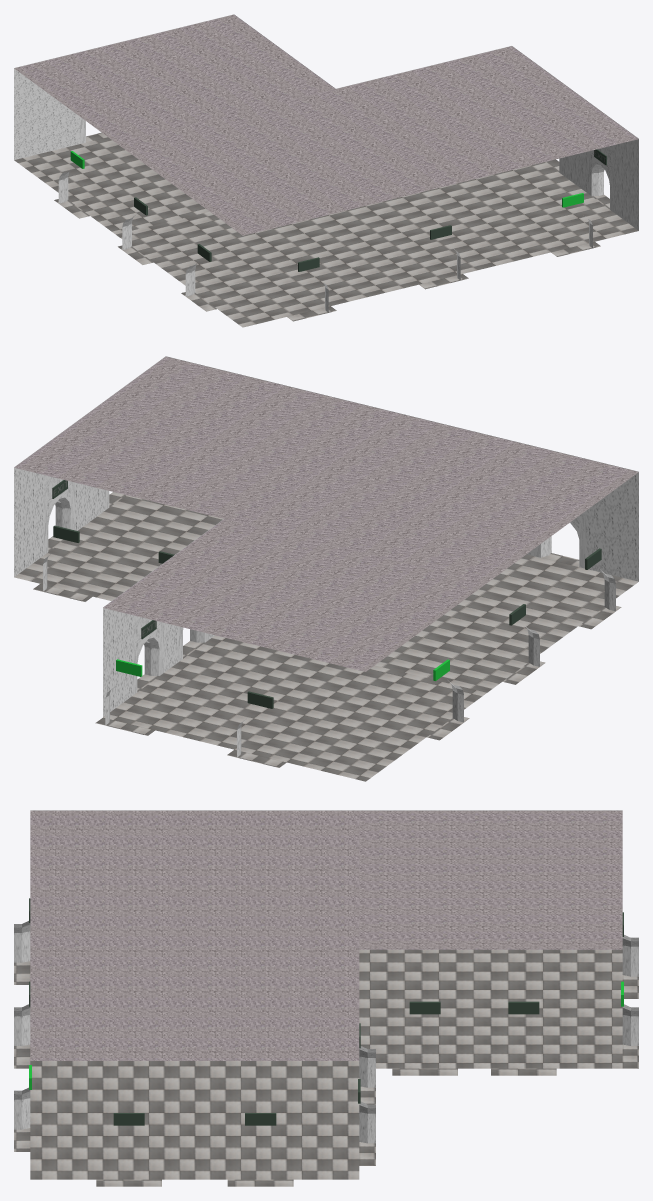
File: Room8.glb
3 renders of one model, top to bottom at view 1: azimuth 30°, elevation 25°; view 2: azimuth 150°, elevation 25°; view 3: azimuth 270°, elevation 25°, orthographic. The views are drawn at different scales.
Visible parts, largest first — view 1: Floor.002, Floor.001, Walls, FakeSigns; view 2: Floor.002, Floor.001, Walls, FakeSigns; view 3: Floor.002, Floor.001, Walls, FakeSigns.
Part boxes in pixels (x1,y1,x2,y2): Floor.002: (14, 14, 638, 235); Floor.001: (14, 132, 638, 327); Walls: (14, 14, 638, 312); FakeSigns: (134, 149, 606, 271); Floor.002: (14, 356, 638, 671); Floor.001: (14, 492, 638, 781); Walls: (14, 356, 638, 757); FakeSigns: (52, 480, 601, 708); Floor.002: (30, 810, 622, 1060); Floor.001: (14, 949, 638, 1186); Walls: (14, 810, 638, 1143); FakeSigns: (29, 898, 623, 1125).
Size of the model in its own units: 19 by 4 by 19.
5 materials, 5 textured.
